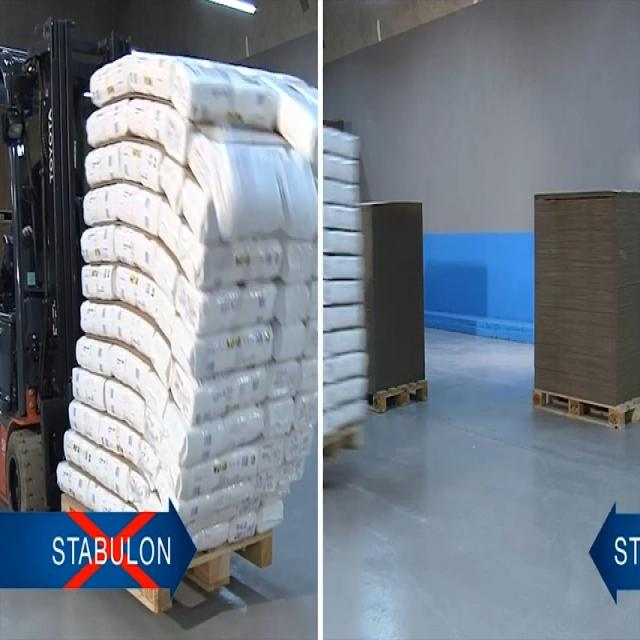Chariot elevateur: (0, 15, 136, 513)
Palette: (138, 523, 281, 625), (528, 374, 640, 442), (366, 372, 436, 421), (316, 420, 362, 472)
